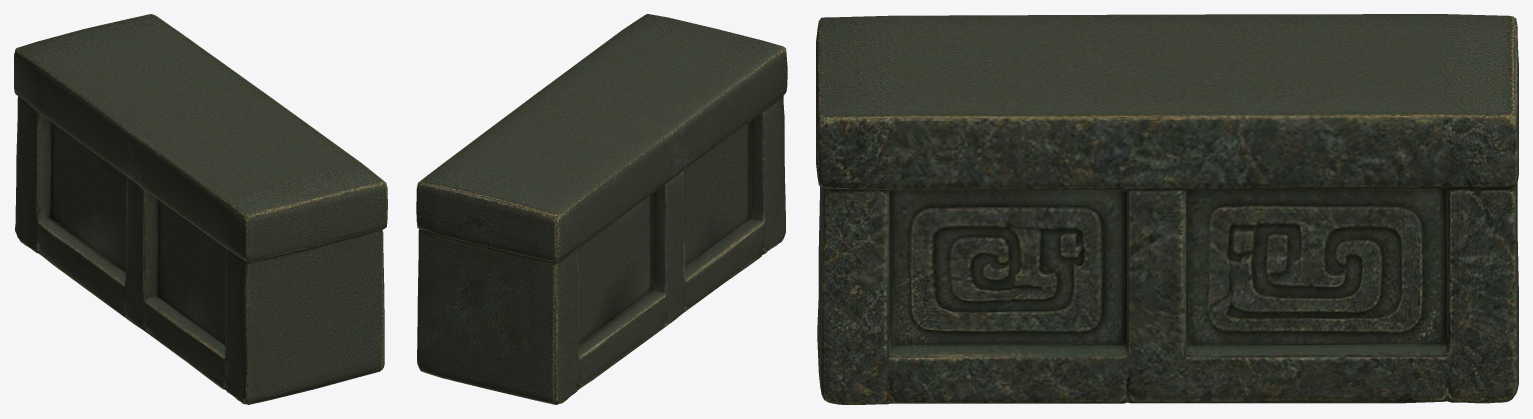
The model's file is stone-box.glb.
The picture shows the model from 3 angles, left to right: view 1: azimuth 30°, elevation 25°; view 2: azimuth 150°, elevation 25°; view 3: azimuth 270°, elevation 25°; orthographic projection. The views are drawn at different scales.
Visible parts, largest first — view 1: tripo_node_614991c6-cfee-44ce-ab92-00c4215fce7e; view 2: tripo_node_614991c6-cfee-44ce-ab92-00c4215fce7e; view 3: tripo_node_614991c6-cfee-44ce-ab92-00c4215fce7e.
Part boxes in pixels (bbox=[...]): tripo_node_614991c6-cfee-44ce-ab92-00c4215fce7e: bbox=[14, 14, 387, 404]; tripo_node_614991c6-cfee-44ce-ab92-00c4215fce7e: bbox=[416, 14, 787, 404]; tripo_node_614991c6-cfee-44ce-ab92-00c4215fce7e: bbox=[816, 14, 1518, 404].
Size of the model in its own units: 0.3613 by 0.4629 by 0.998.
Materials: 1 (1 with a texture image).
